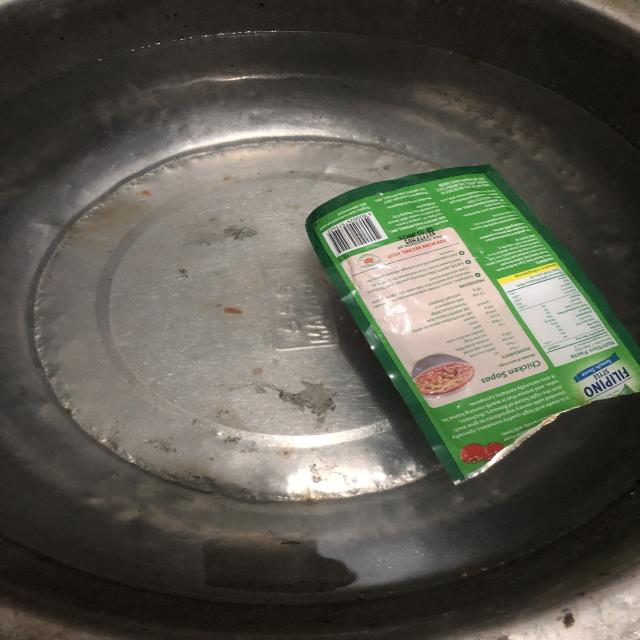Plastic Pouch: (296, 179, 640, 473)
